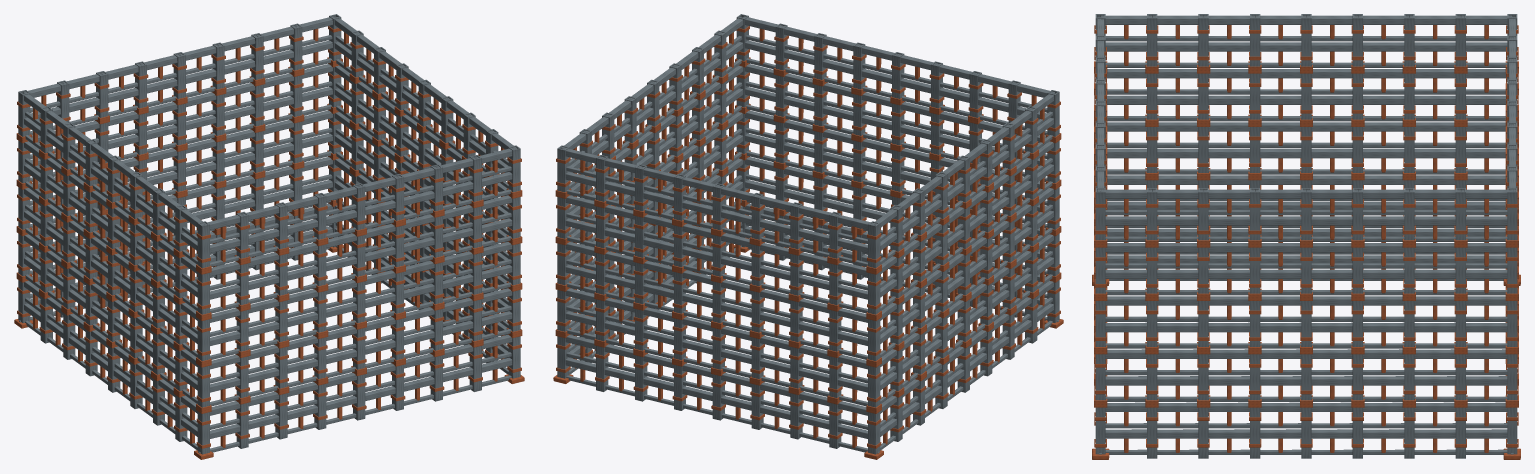
3 renders of one model, left to right at view 1: azimuth 30°, elevation 25°; view 2: azimuth 150°, elevation 25°; view 3: azimuth 270°, elevation 25°, orthographic. The views are drawn at different scales.
Parts seen in each view (by area): view 1: Tier 4 side 0 post 0; view 2: Tier 4 side 3 post 0; view 3: Tier 4 side 1 post 2, Tier 4 side 1 post 4, Tier 4 side 1 post 6, Tier 4 side 3 post 1, Tier 4 side 3 post 2, Tier 4 side 3 post 3, Tier 4 side 3 post 4, Tier 4 side 3 post 5, Tier 4 side 3 post 6, Tier 4 side 3 post 7, Tier 4 side 1 post 1, Tier 4 side 1 post 3 (+78 smaller).
Part boxes in pixels (x1,y1,x2,y2): Tier 4 side 0 post 0: (197, 221, 209, 268); Tier 4 side 3 post 0: (868, 221, 880, 268); Tier 4 side 1 post 2: (1198, 188, 1208, 240); Tier 4 side 1 post 4: (1301, 188, 1311, 240); Tier 4 side 1 post 6: (1404, 188, 1414, 240); Tier 4 side 3 post 1: (1455, 14, 1465, 66); Tier 4 side 3 post 2: (1404, 14, 1414, 66); Tier 4 side 3 post 3: (1352, 14, 1362, 66); Tier 4 side 3 post 4: (1301, 14, 1311, 66); Tier 4 side 3 post 5: (1250, 14, 1260, 66); Tier 4 side 3 post 6: (1198, 14, 1208, 66); Tier 4 side 3 post 7: (1147, 14, 1157, 66); Tier 4 side 1 post 1: (1147, 188, 1157, 240); Tier 4 side 1 post 3: (1250, 188, 1260, 240).
Bounding box in the file's own units: 3.75 × 2.57 × 3.75.
Materials: 2 (2 with a texture image).
